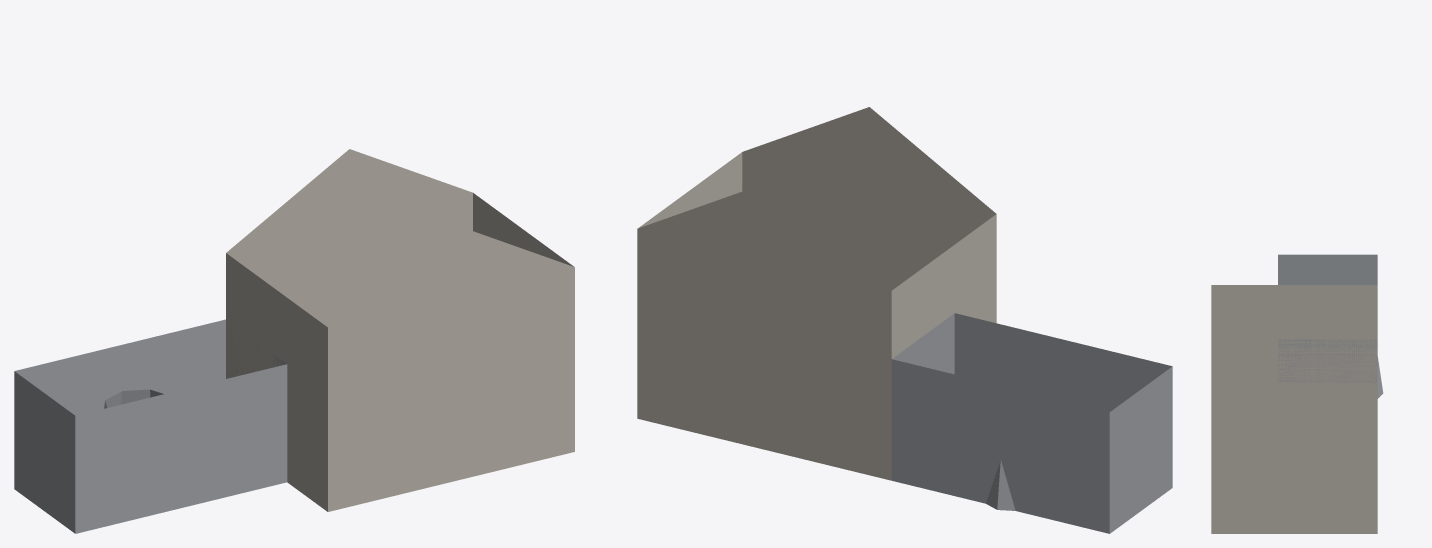
The model's file is Bld_I_med_L2_B.fbx.
3 views of the same model, side by side, from view 1: azimuth 30°, elevation 25°; view 2: azimuth 150°, elevation 25°; view 3: azimuth 270°, elevation 25° (orthographic). The views are drawn at different scales.
Visible parts, largest first — view 1: Bld_I_med_L2_B_LOD0; view 2: Bld_I_med_L2_B_LOD0; view 3: Bld_I_med_L2_B_LOD0.
Boxes of the visible parts, x1,y1,x2,y2 form: Bld_I_med_L2_B_LOD0: (14,149,574,533); Bld_I_med_L2_B_LOD0: (637,107,1172,533); Bld_I_med_L2_B_LOD0: (1211,254,1383,533).
Size of what is drawn, in the model's own units: 1337 by 1225 by 650.
1 material, 1 textured.
